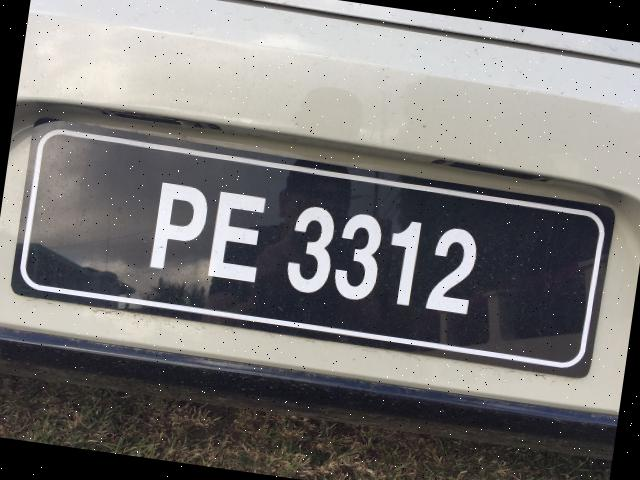License_Plate: (38, 139, 580, 360)
